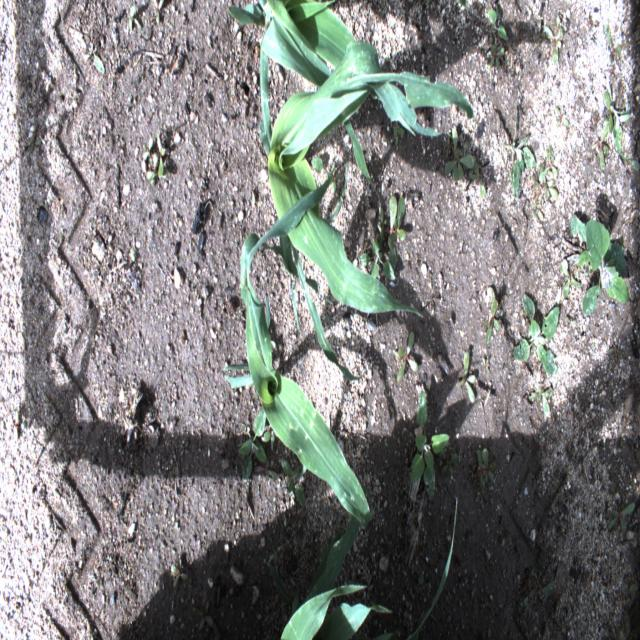crop: (260, 41, 475, 383), (223, 176, 371, 524), (276, 519, 393, 638), (225, 0, 358, 87), (412, 495, 458, 636)
weed: (569, 209, 630, 319), (408, 389, 468, 500), (360, 189, 408, 281), (510, 293, 559, 372), (592, 86, 636, 172), (442, 127, 488, 202), (238, 399, 275, 482), (506, 112, 535, 198), (530, 144, 562, 220), (486, 4, 516, 70), (457, 337, 482, 410), (141, 136, 172, 194), (544, 9, 572, 71), (280, 462, 307, 522), (394, 325, 420, 385), (560, 248, 588, 302), (482, 284, 503, 342), (473, 442, 498, 487), (606, 501, 636, 534), (166, 549, 188, 592), (533, 382, 556, 420), (194, 598, 218, 633), (9, 407, 30, 445), (606, 28, 626, 61), (124, 2, 143, 34), (153, 0, 167, 26)
